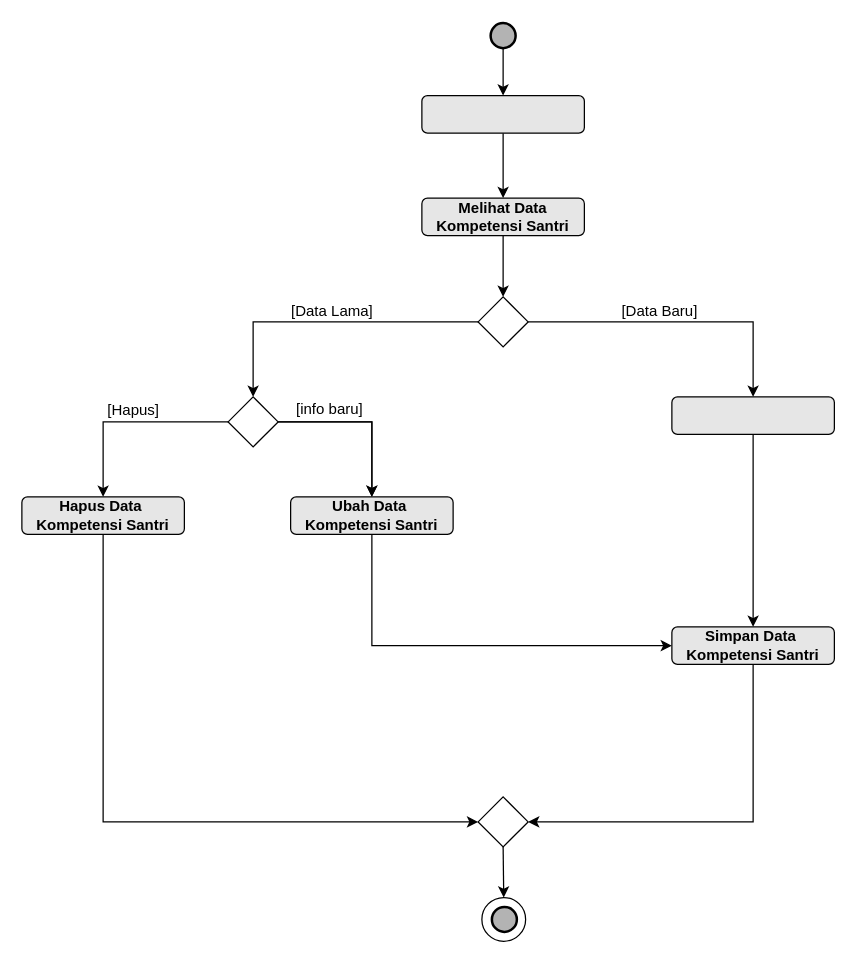
This 856x963 diagram has some shape labels left out. The centre of each missing label's shape, as x and y in pixels:
"Kelola Data Kompetensi Santri" belongs at point 502,113.
"Tambah Data Kompetensi Santri" belongs at point 752,415.
